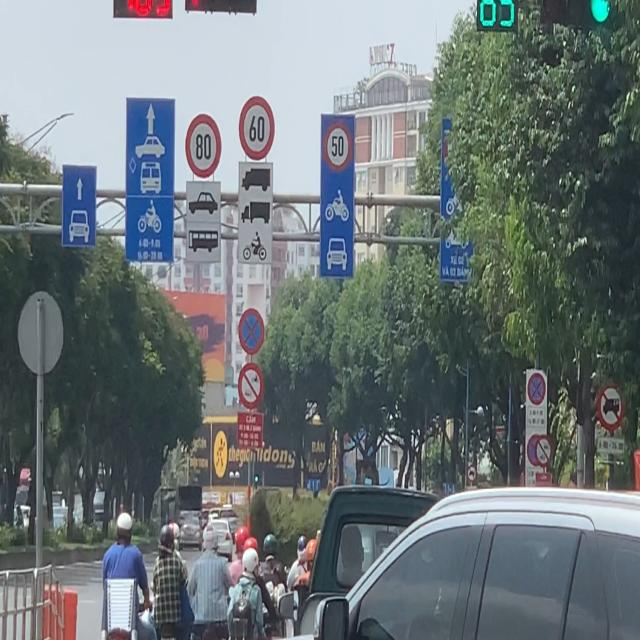Cam con lai: (238, 362, 264, 412), (598, 388, 622, 428)
Cam dung va do: (237, 305, 265, 357), (526, 370, 548, 407)
Toc do toi da: (183, 114, 226, 180), (239, 94, 279, 160), (322, 120, 355, 172)
